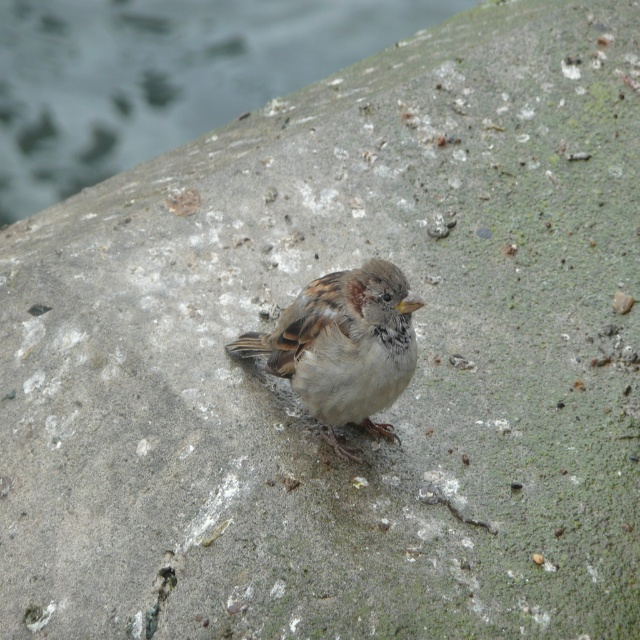Sparrow: (222, 255, 427, 462)
